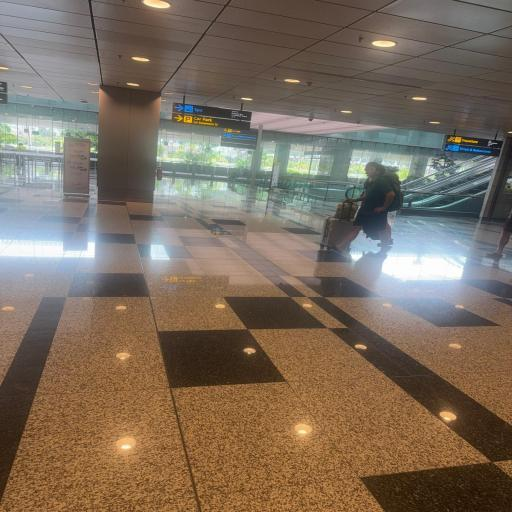person_with_luggage_left: (330, 161, 402, 257)
